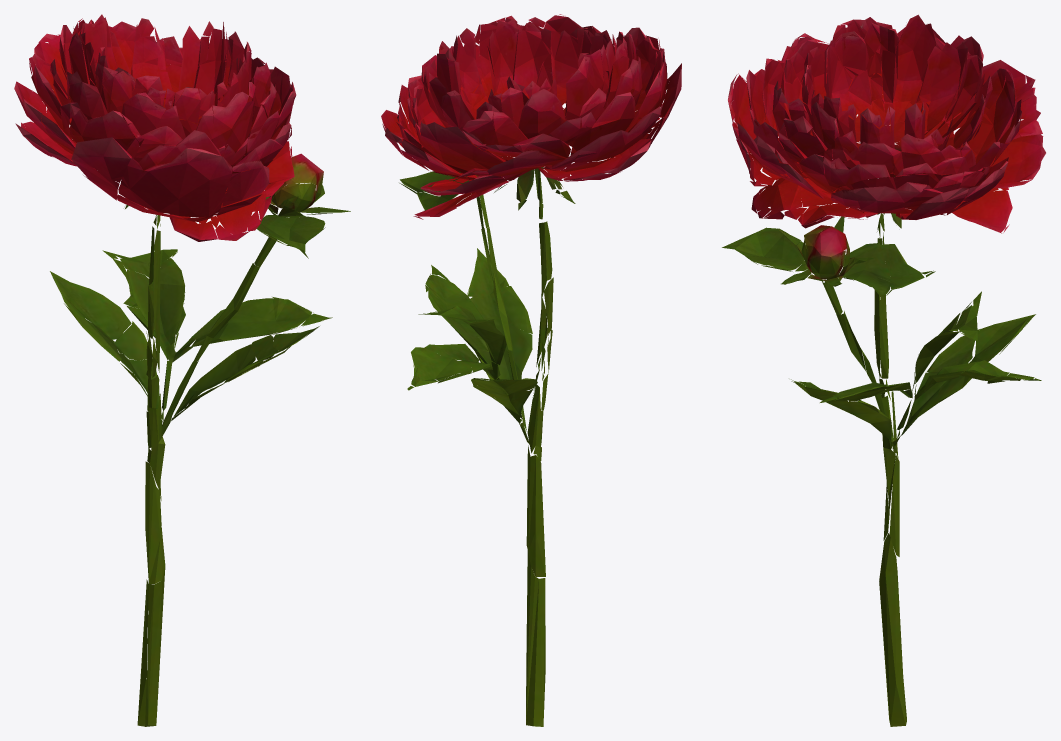
Rendered from flor_05_peonia.glb.
The picture shows the model from 3 angles, left to right: view 1: azimuth 30°, elevation 25°; view 2: azimuth 150°, elevation 25°; view 3: azimuth 270°, elevation 25°; orthographic projection. The views are drawn at different scales.
Parts seen in each view (by area): view 1: tripo_node_fe507234-7e40-42d4-a06e-788f8dbfc10e; view 2: tripo_node_fe507234-7e40-42d4-a06e-788f8dbfc10e; view 3: tripo_node_fe507234-7e40-42d4-a06e-788f8dbfc10e.
Part boxes in pixels (x1=…): tripo_node_fe507234-7e40-42d4-a06e-788f8dbfc10e: x1=14, y1=14, x2=350, y2=726; tripo_node_fe507234-7e40-42d4-a06e-788f8dbfc10e: x1=381, y1=14, x2=681, y2=726; tripo_node_fe507234-7e40-42d4-a06e-788f8dbfc10e: x1=722, y1=14, x2=1045, y2=726.
Size of the model in its own units: 0.4021 by 0.9801 by 0.4375.
1 material, 1 textured.
